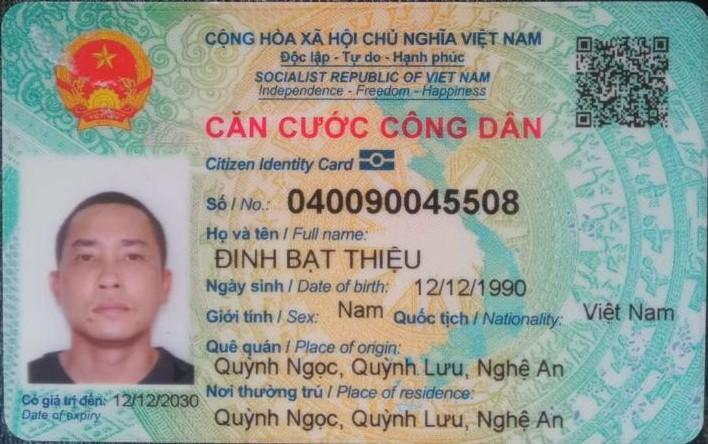ID: (280, 177, 527, 222)
birth: (413, 274, 532, 303)
name: (211, 242, 434, 277)
place: (213, 354, 575, 382)
residence: (207, 402, 575, 436)
